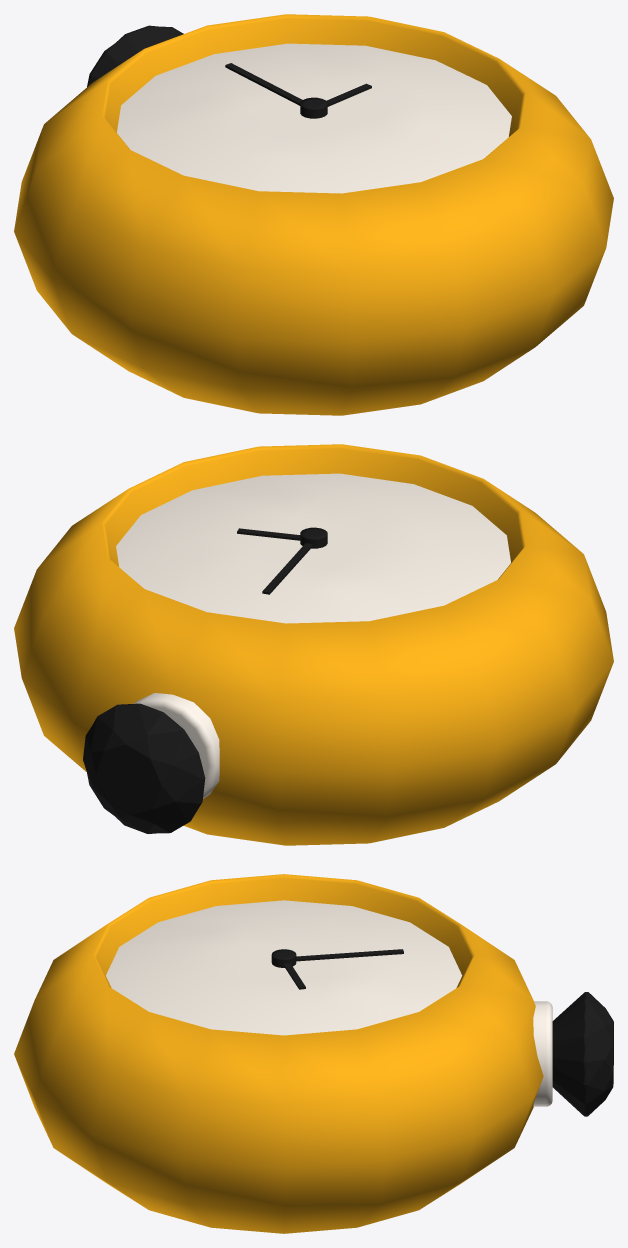
File: Clock.fbx
3 views of the same model, one above another, from view 1: azimuth 30°, elevation 25°; view 2: azimuth 150°, elevation 25°; view 3: azimuth 270°, elevation 25° (orthographic). The views are drawn at different scales.
Visible parts, largest first — view 1: Clock, Diamond, Arrow; view 2: Clock, Diamond, Cylinder_3, Arrow; view 3: Clock, Diamond, Cylinder_3, Arrow.
Part boxes in pixels (x1,y1,x2,y2): Clock: [14, 14, 613, 415]; Diamond: [87, 25, 183, 86]; Arrow: [225, 63, 302, 105]; Clock: [14, 444, 613, 845]; Diamond: [83, 703, 205, 833]; Cylinder_3: [134, 693, 219, 798]; Arrow: [262, 543, 312, 594]; Clock: [14, 874, 543, 1233]; Diamond: [552, 992, 613, 1116]; Cylinder_3: [533, 1001, 552, 1106]; Arrow: [296, 949, 403, 961].
Size of the model in its own units: 68.68 by 33.64 by 76.29.
